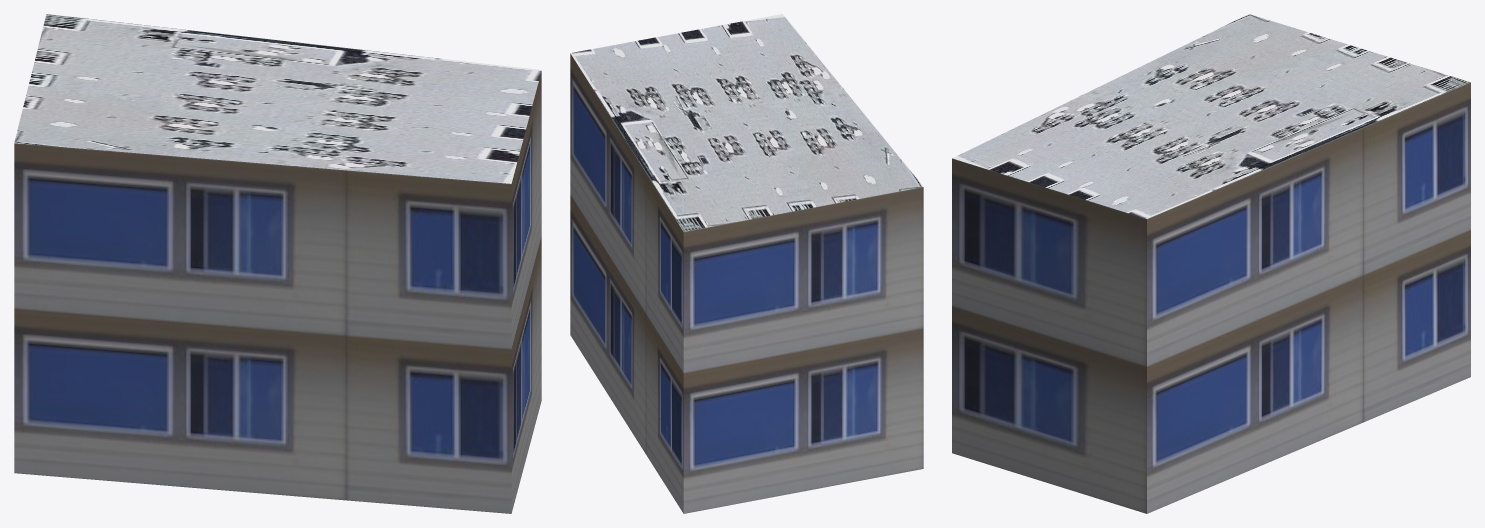
File: ResTex__4262.fbx
3 renders of one model, left to right at view 1: azimuth 30°, elevation 25°; view 2: azimuth 150°, elevation 25°; view 3: azimuth 270°, elevation 25°, orthographic. The views are drawn at different scales.
Visible parts, largest first — view 1: CityEngineMaterial_23_m, CityEngineMaterial_4_m; view 2: CityEngineMaterial_23_m, CityEngineMaterial_4_m; view 3: CityEngineMaterial_23_m, CityEngineMaterial_4_m.
Part boxes in pixels (x1=…): CityEngineMaterial_23_m: x1=14, y1=71, x2=541, y2=513; CityEngineMaterial_4_m: x1=14, y1=14, x2=541, y2=183; CityEngineMaterial_23_m: x1=570, y1=53, x2=923, y2=513; CityEngineMaterial_4_m: x1=570, y1=14, x2=923, y2=231; CityEngineMaterial_23_m: x1=952, y1=82, x2=1470, y2=513; CityEngineMaterial_4_m: x1=952, y1=14, x2=1470, y2=218.
Size of the model in its own units: 8.95 by 6 by 9.57.
2 materials, 2 textured.
